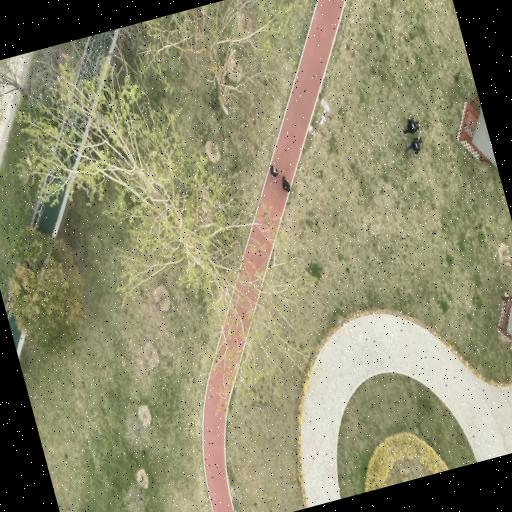person: (405, 136, 421, 153), (403, 118, 419, 134), (282, 176, 290, 191), (270, 165, 277, 178)
